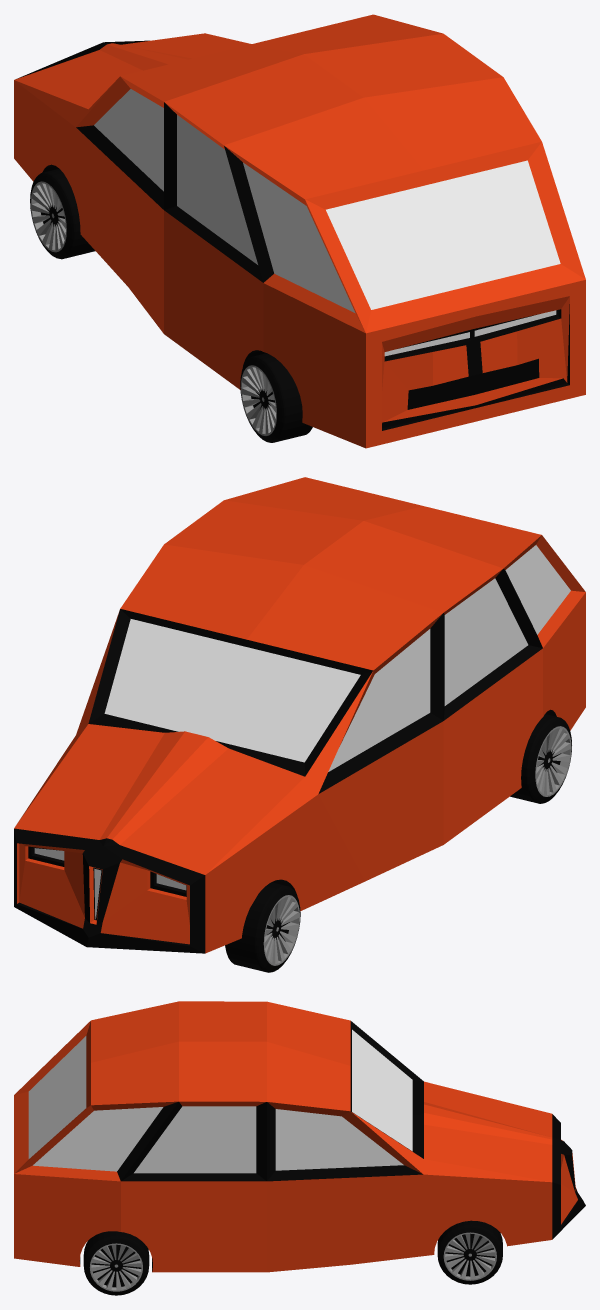
File: cargdscappyltransform.fbx
3 renders of one model, top to bottom at view 1: azimuth 30°, elevation 25°; view 2: azimuth 150°, elevation 25°; view 3: azimuth 270°, elevation 25°, orthographic. The views are drawn at different scales.
Visible parts, largest first — view 1: Cube; view 2: Cube; view 3: Cube.
Part boxes in pixels (x1,y1,x2,y2): Cube: (14,14,585,448); Cube: (14,477,585,972); Cube: (14,1001,585,1295).
Size of the model in its own units: 249 by 223 by 569.
